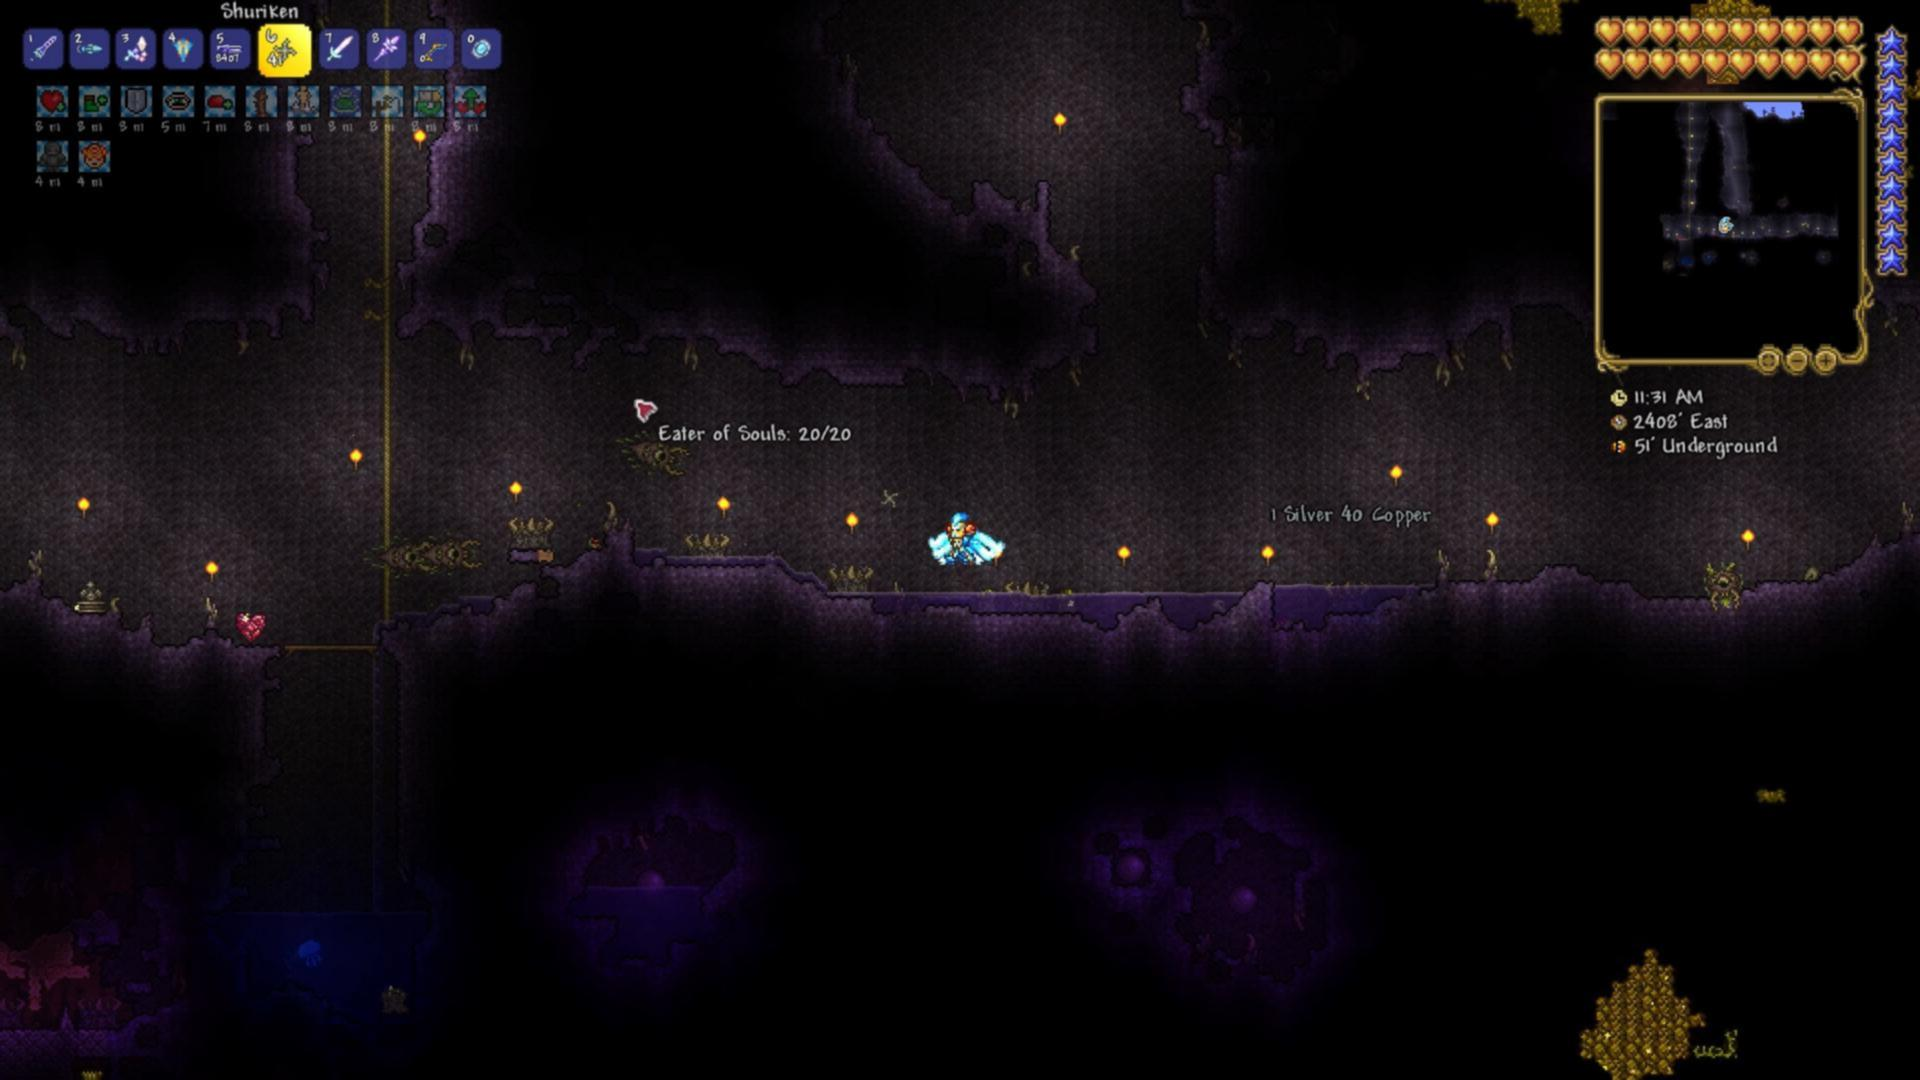crimera: (615, 431, 690, 481)
